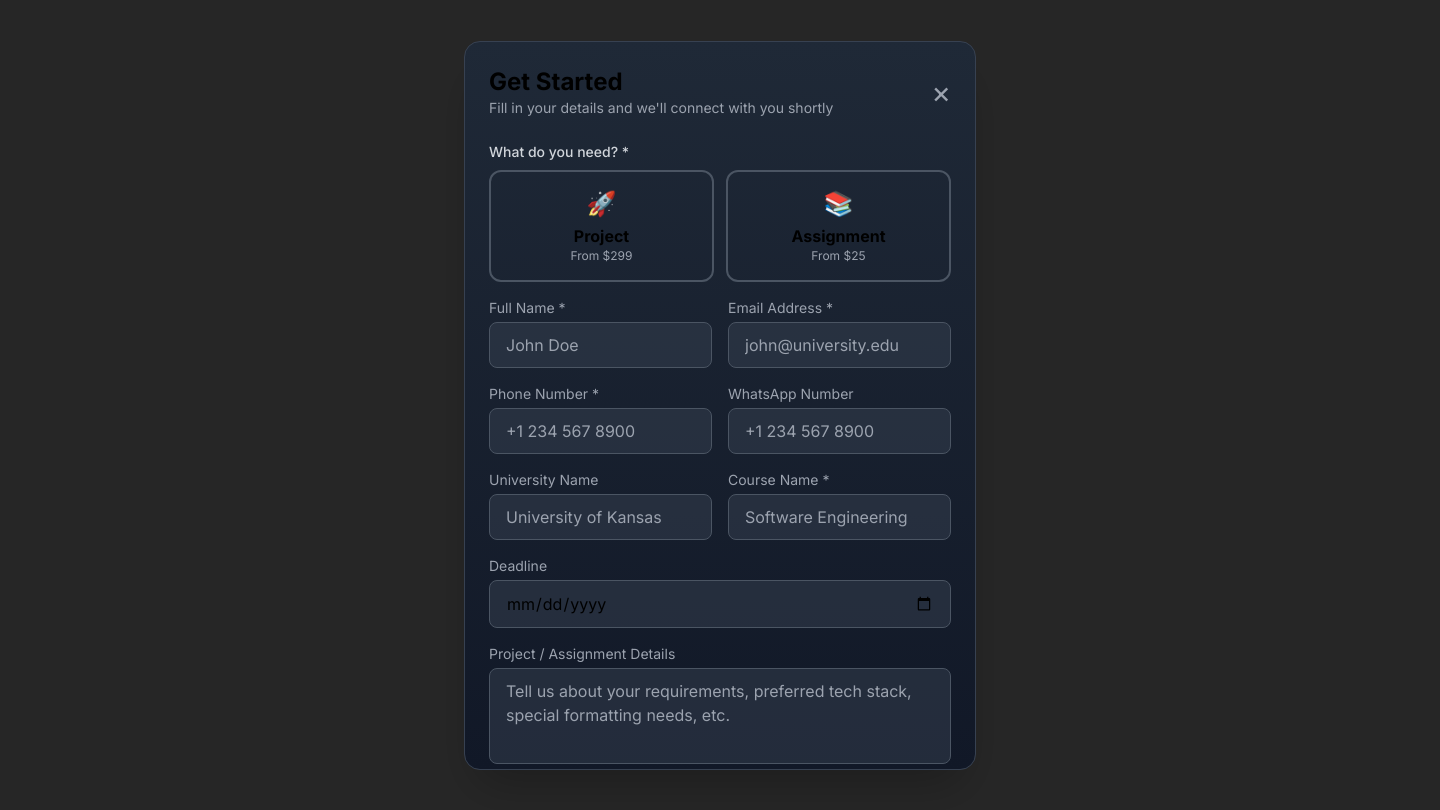
Scenario: ContactForm Component › Service Type Selection › hides package selection for assignment
This screenshot has width=1440, height=810.
// First select project to show packages
Click the button "🚀 Project From $299": click(602, 226) [489,170,714,282]
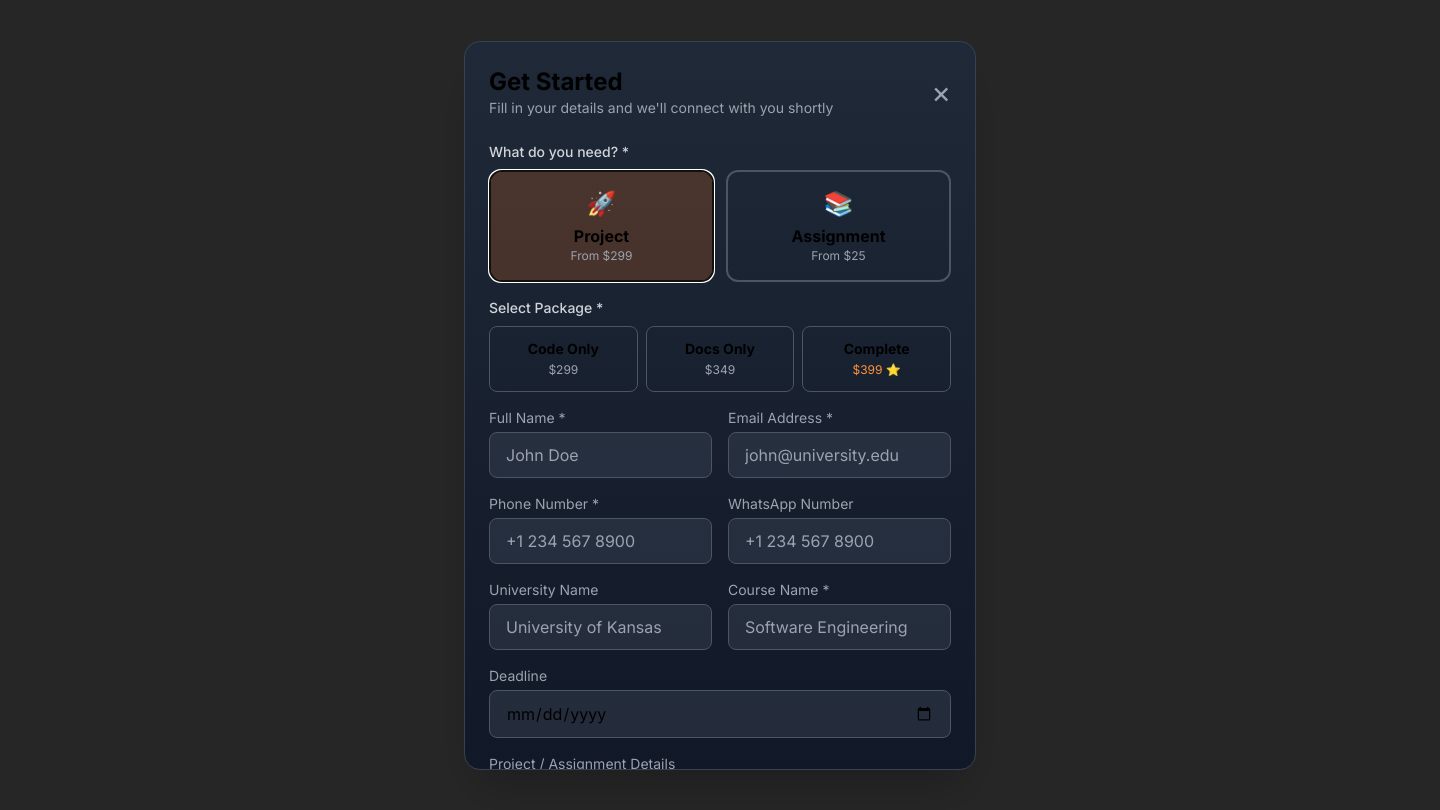
Expected: the text "Code Only" is shown, [528,340,599,356]
// Then select assignment
Click the button "📚 Assignment From $25": click(838, 226) [726,170,951,282]
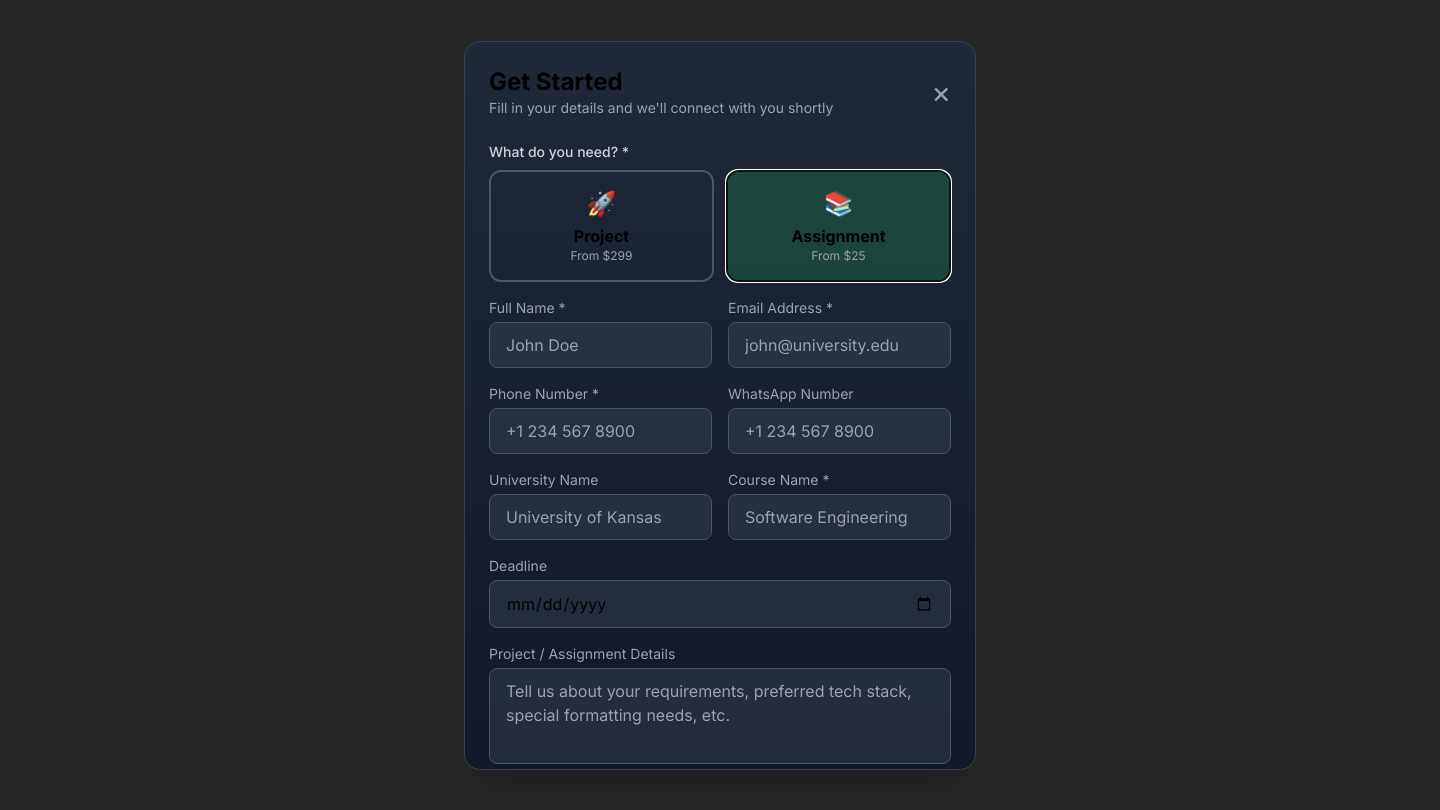
Expected: the button "Code Only" is gone
